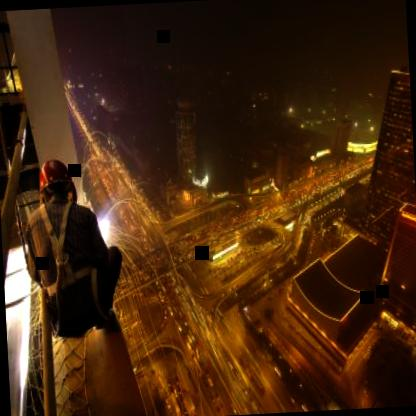helmet: (36, 152, 75, 215)
